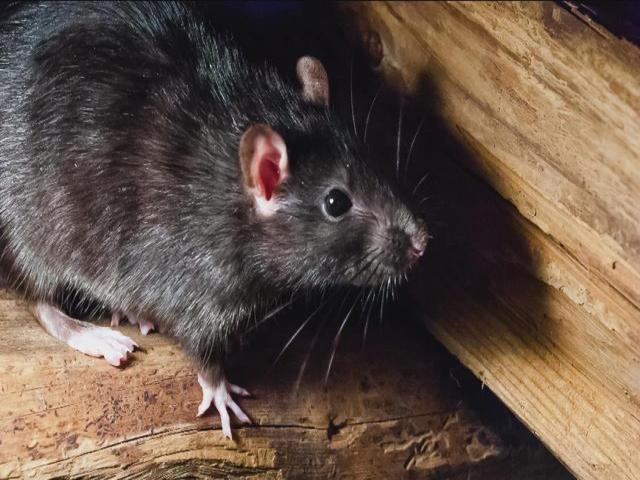Tikus: (0, 0, 444, 442)
